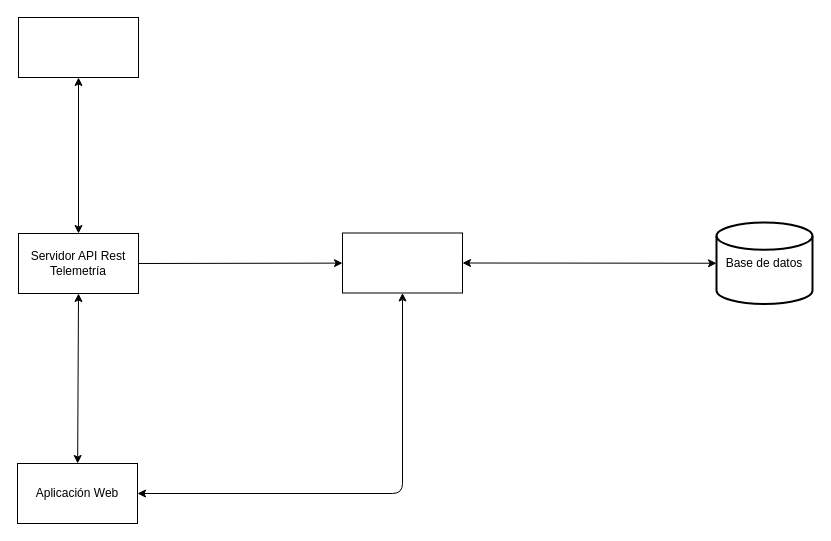
The diagram is 831 pixels wide and 541 high, and some of its shapes have lost their labels. The shapes that lost their labels are listed below. From the top down, each one's centre as x and y in pixels, then its label:
At pixel 78 47: "CFT y CFC".
At pixel 402 262: "Servidor API Rest Historicos".
